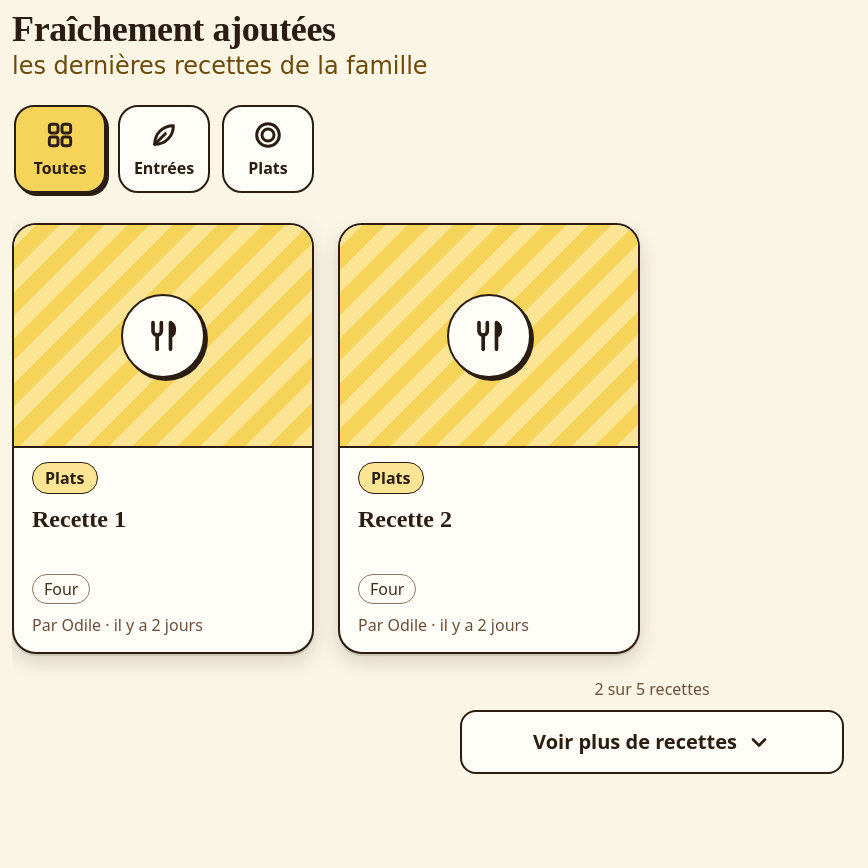
Test: HomeScreen › « Voir plus de recettes » › says « Impossible de charger la suite. » when the network is the cause
The width and height of the screenshot is (868, 868).
Click the button "Voir plus de recettes". click: (652, 742)
box: [460,710,844,774]
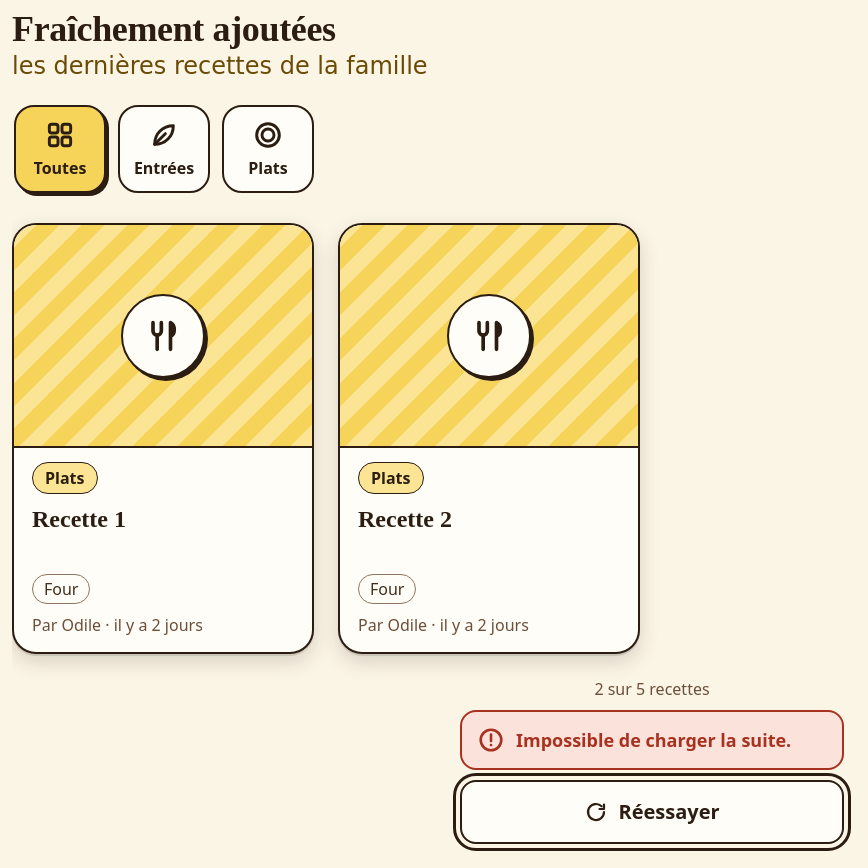
Now the message reads "Impossible de charger la suite.", box [516,728,791,752]
